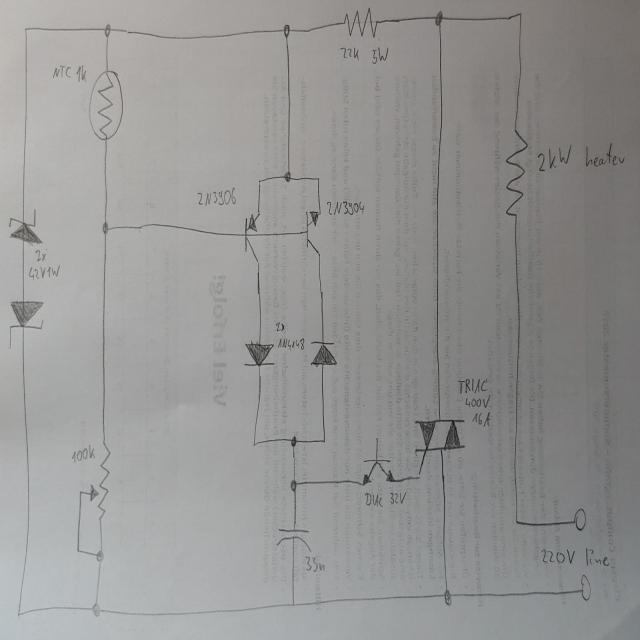capacitor: (274, 527, 313, 554)
diode: (7, 298, 46, 351), (6, 206, 44, 246), (242, 341, 276, 368), (308, 338, 338, 367)
junction: (90, 598, 102, 619), (94, 546, 105, 566), (433, 8, 444, 28), (443, 587, 452, 606), (100, 219, 110, 236), (102, 21, 112, 38), (282, 168, 292, 184), (288, 477, 298, 493), (282, 22, 291, 39), (73, 544, 82, 558), (290, 433, 298, 447), (516, 8, 524, 20), (76, 487, 84, 498), (15, 609, 22, 621), (256, 176, 262, 186), (290, 598, 296, 608), (22, 24, 28, 34), (251, 439, 257, 448), (415, 472, 421, 481), (321, 436, 326, 445), (316, 174, 320, 183), (514, 516, 518, 525)
resistor: (88, 68, 124, 141), (503, 122, 529, 220), (88, 442, 112, 522), (340, 6, 380, 38)
terminal: (572, 504, 587, 532), (579, 574, 591, 602)
text: (534, 141, 575, 174), (584, 140, 626, 170), (196, 185, 237, 207), (325, 197, 365, 217), (539, 545, 576, 565), (457, 375, 489, 395), (584, 546, 612, 568), (70, 444, 96, 463), (276, 334, 305, 351), (50, 62, 73, 82), (304, 554, 326, 574), (370, 44, 390, 66), (336, 44, 360, 62), (464, 394, 490, 409), (470, 410, 491, 428), (363, 490, 384, 508), (74, 63, 88, 85), (28, 263, 46, 280), (388, 490, 407, 506), (46, 263, 60, 279), (34, 248, 46, 263), (274, 320, 284, 332)
transistor: (242, 208, 261, 266), (302, 204, 322, 259)
